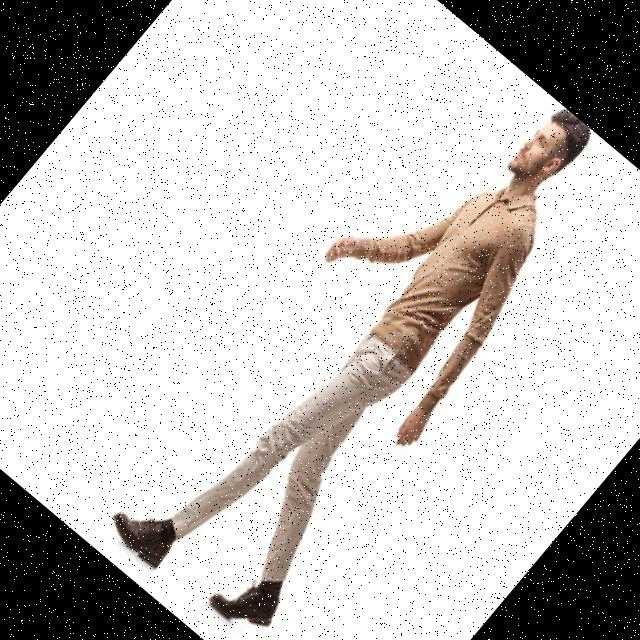Person: (102, 50, 640, 640)
